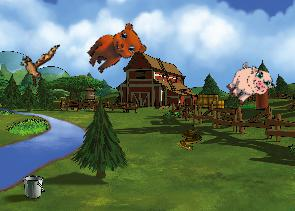bear: (81, 16, 151, 85)
eagle: (15, 37, 60, 90)
pig: (221, 56, 277, 112)
